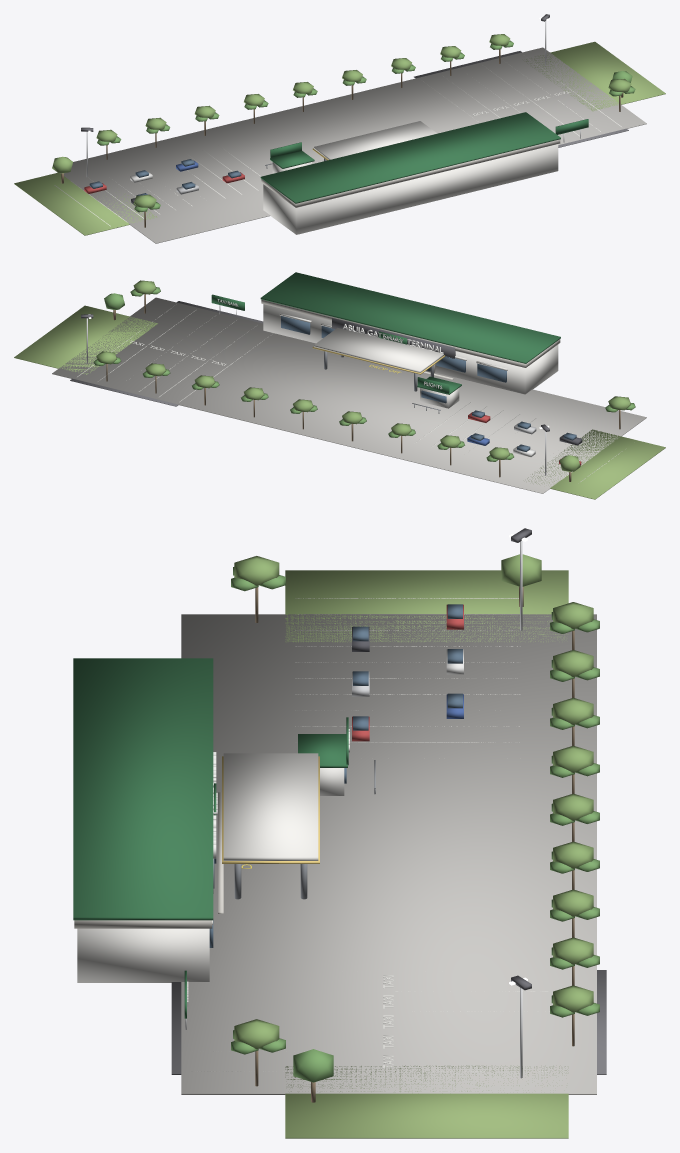
The model's file is abuja_gateway_terminal.glb.
3 renders of one model, top to bottom at view 1: azimuth 30°, elevation 25°; view 2: azimuth 150°, elevation 25°; view 3: azimuth 270°, elevation 25°, orthographic. The views are drawn at different scales.
Visible parts, largest first — view 1: BLD_abuja_gateway_terminal; view 2: BLD_abuja_gateway_terminal; view 3: BLD_abuja_gateway_terminal.
Part boxes in pixels (box(x1,y1,x2,y2)): BLD_abuja_gateway_terminal: box(14, 14, 665, 243); BLD_abuja_gateway_terminal: box(14, 272, 665, 499); BLD_abuja_gateway_terminal: box(73, 528, 606, 1138).
Size of the model in its own units: 142 by 11.45 by 56.4.
